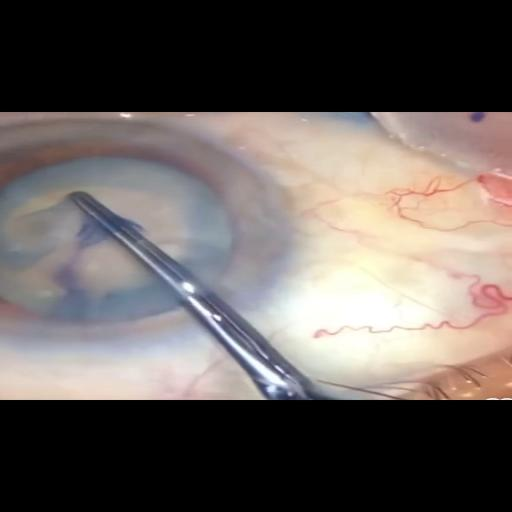catarata: (0, 158, 229, 317)
cornea: (0, 118, 298, 338)
pupil: (0, 138, 238, 326)
